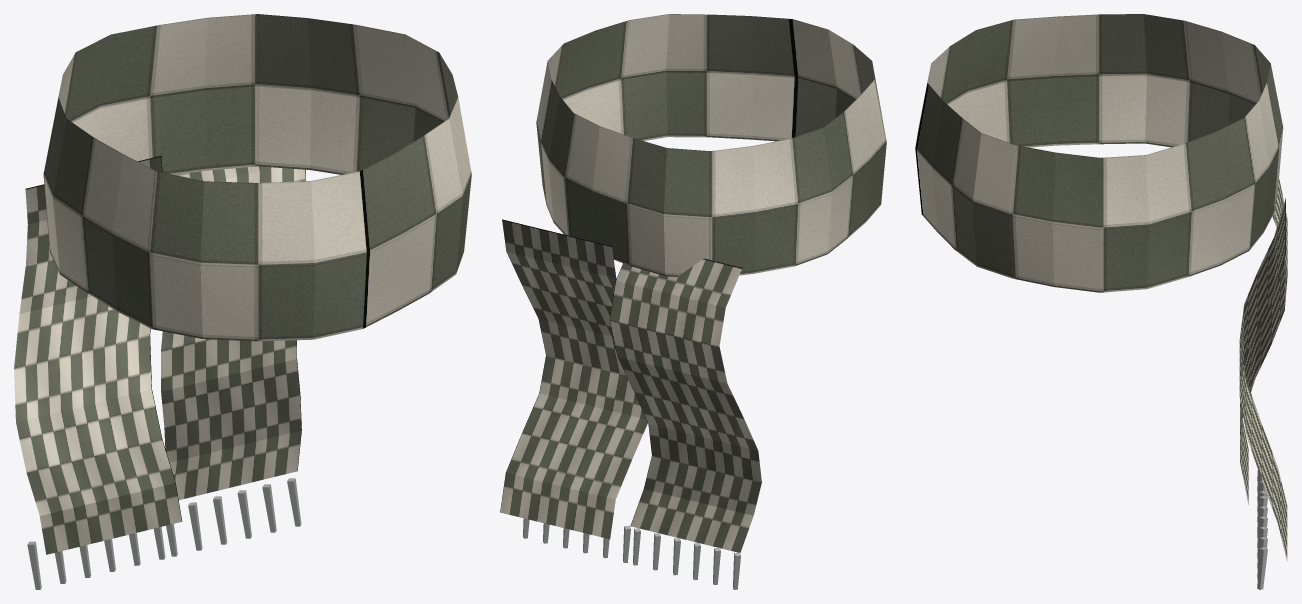
File: khan-ran.glb
The picture shows the model from 3 angles, left to right: view 1: azimuth 30°, elevation 25°; view 2: azimuth 150°, elevation 25°; view 3: azimuth 270°, elevation 25°; orthographic projection. The views are drawn at different scales.
Parts seen in each view (by area): view 1: KhanWrap, KhanTail_0, KhanTail_1; view 2: KhanWrap, KhanTail_0, KhanTail_1; view 3: KhanWrap, KhanTail_1, KhanTail_0.
Boxes of the visible parts, x1=… form: KhanWrap: x1=43, y1=14, x2=471, y2=341; KhanTail_0: x1=14, y1=155, x2=182, y2=554; KhanTail_1: x1=161, y1=166, x2=305, y2=499; KhanWrap: x1=536, y1=14, x2=886, y2=276; KhanTail_0: x1=609, y1=258, x2=761, y2=552; KhanTail_1: x1=500, y1=219, x2=647, y2=539; KhanWrap: x1=915, y1=14, x2=1283, y2=292; KhanTail_1: x1=1239, y1=198, x2=1287, y2=561; KhanTail_0: x1=1240, y1=179, x2=1287, y2=504.
Size of the model in its own units: 0.3012 by 0.4103 by 0.3072.
Materials: 2 (1 with a texture image).
